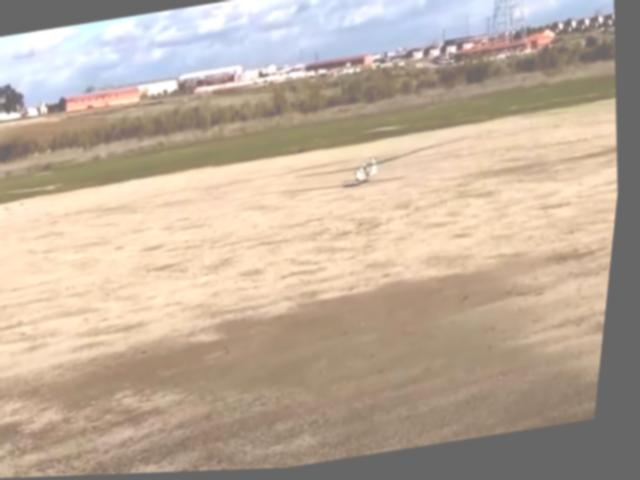iha: (290, 135, 457, 194)
